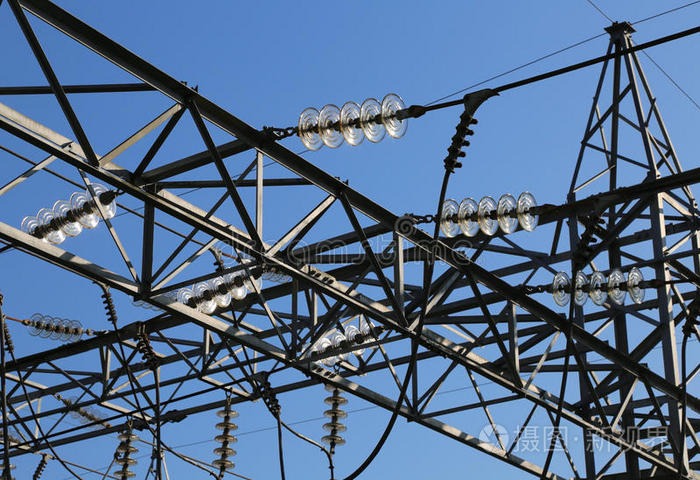insulator: (296, 92, 411, 149), (22, 184, 117, 241), (441, 189, 538, 240), (548, 265, 646, 306), (174, 270, 265, 314), (309, 323, 375, 363), (316, 386, 351, 448), (211, 405, 242, 474), (24, 311, 85, 339), (110, 431, 141, 480)
